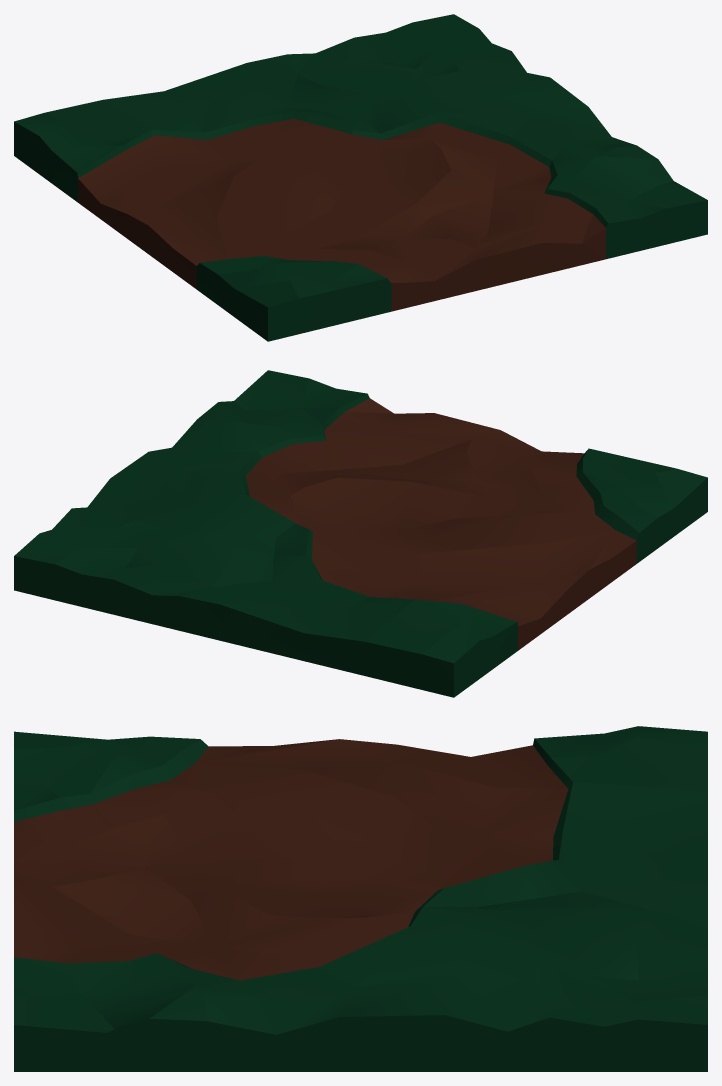
The model's file is Ground_Path_Turn_RU.fbx.
The picture shows the model from 3 angles, top to bottom: view 1: azimuth 30°, elevation 25°; view 2: azimuth 150°, elevation 25°; view 3: azimuth 270°, elevation 25°; orthographic projection. The views are drawn at different scales.
Visible parts, largest first — view 1: Ground_Path_Turn_RU; view 2: Ground_Path_Turn_RU; view 3: Ground_Path_Turn_RU.
Part boxes in pixels (<box>): Ground_Path_Turn_RU: <box>14,14,707,341</box>; Ground_Path_Turn_RU: <box>14,370,707,697</box>; Ground_Path_Turn_RU: <box>14,726,707,1071</box>.
Bounding box in the file's own units: 147 × 15.12 × 147.
